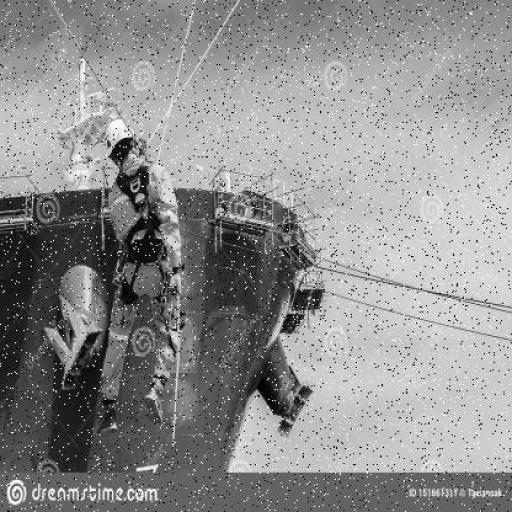person: (90, 116, 183, 448)
safety_shoe: (144, 374, 165, 425), (93, 400, 120, 438)
